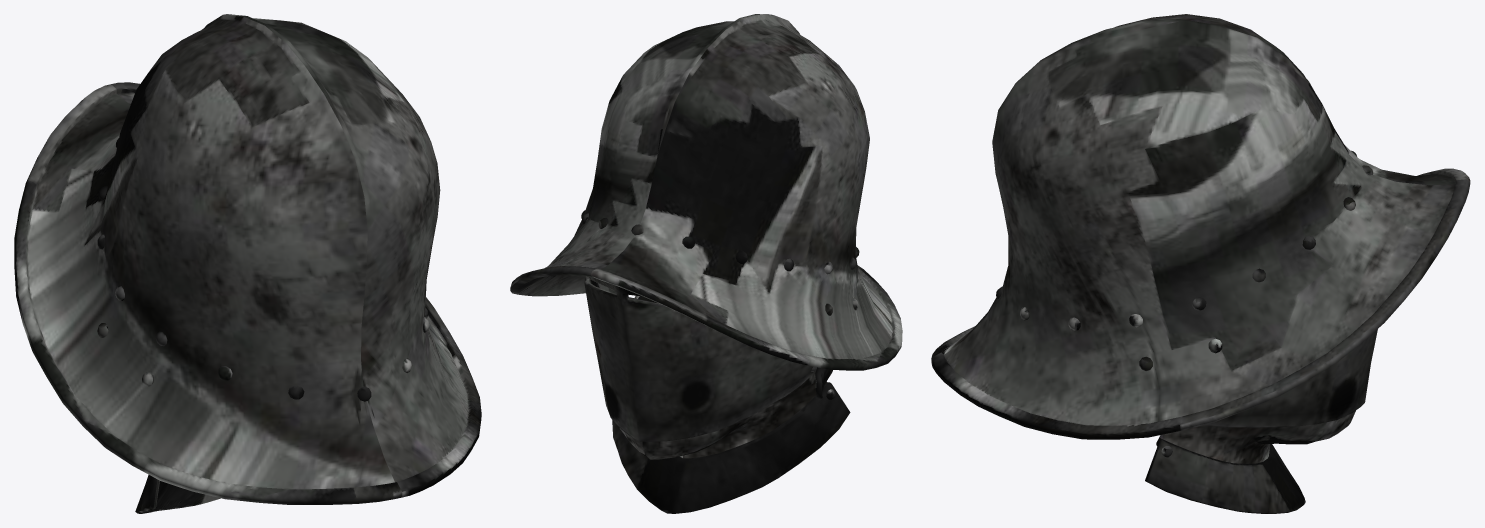
3 renders of one model, left to right at view 1: azimuth 30°, elevation 25°; view 2: azimuth 150°, elevation 25°; view 3: azimuth 270°, elevation 25°, orthographic. The views are drawn at different scales.
Visible parts, largest first — view 1: mesh_0; view 2: mesh_0; view 3: mesh_0.
Part boxes in pixels (bbox=[...]): mesh_0: bbox=[14, 14, 481, 513]; mesh_0: bbox=[510, 14, 902, 513]; mesh_0: bbox=[931, 14, 1470, 513].
Bounding box in the file's own units: 9.74 × 13.25 × 13.36.
1 material, 1 textured.
